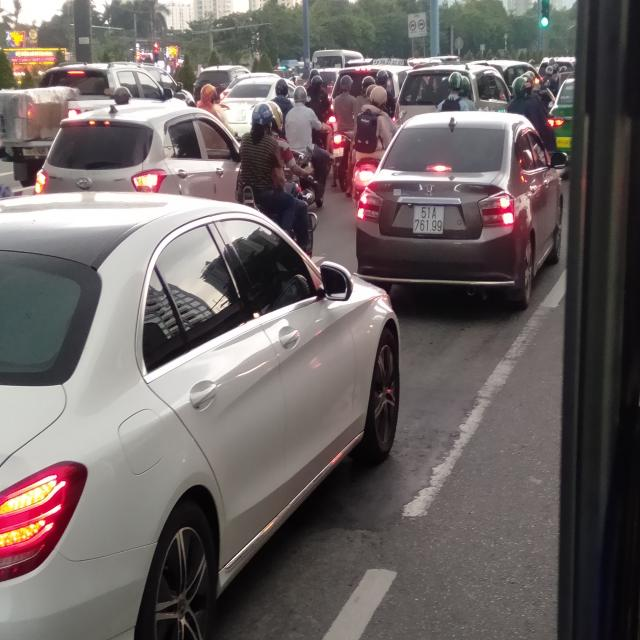bien_trang: (413, 205, 445, 237)
